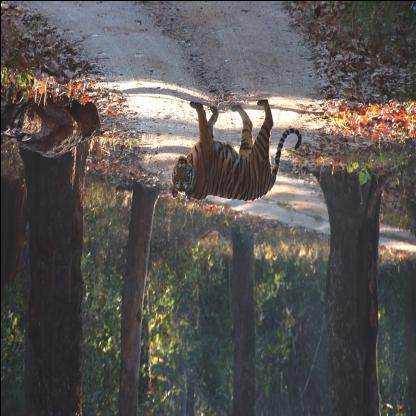tiger: (168, 150, 194, 202)
